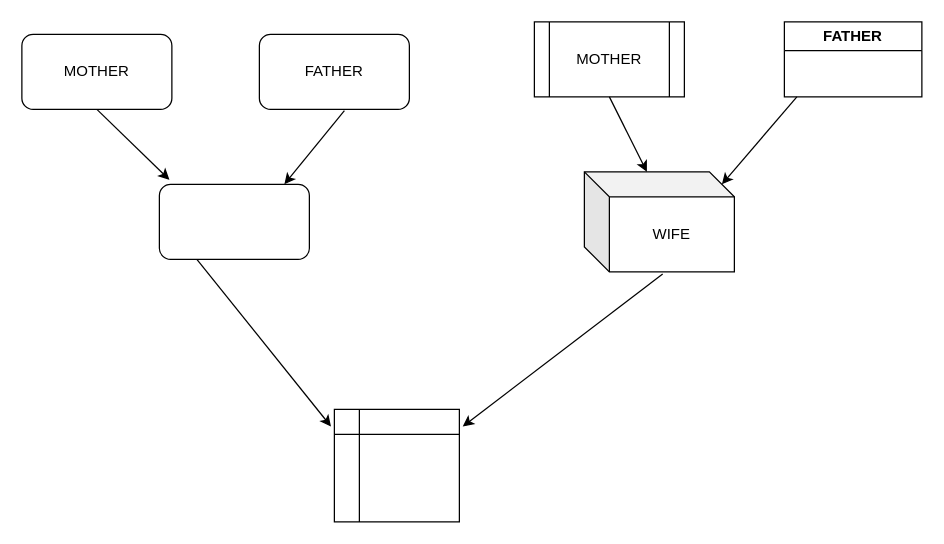
Image size: 944x544. Some labels were removed from this diagram. Each missing label, with the box of its shape:
GRAND SON: (333, 408, 459, 522)
SON: (158, 183, 309, 259)
